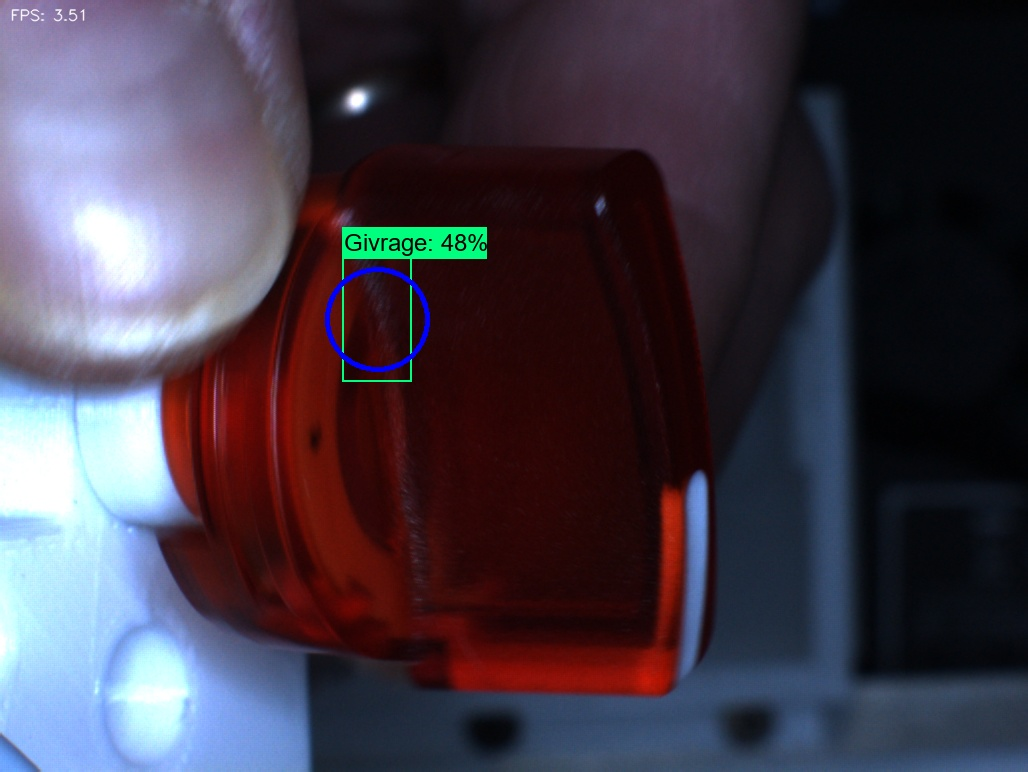PointNoir: (278, 396, 352, 478)
